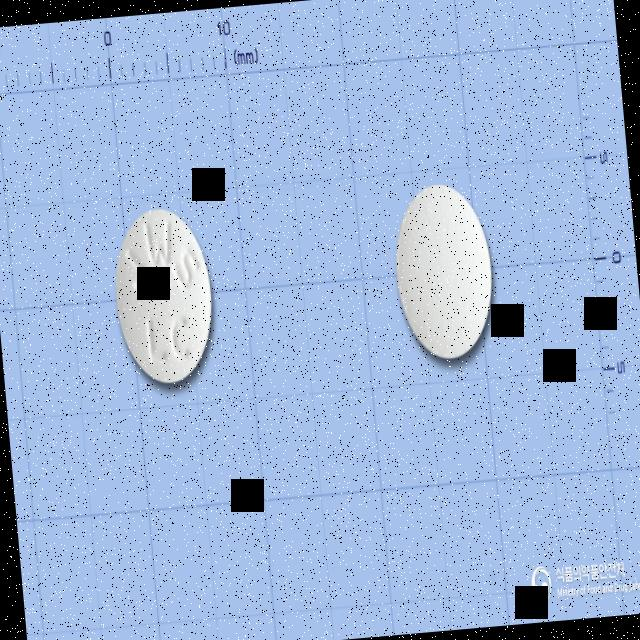Procin Tab: (109, 205, 219, 388)
